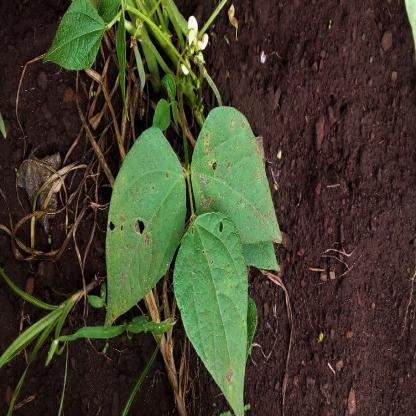Beans_Angular_LeafSpot: (100, 130, 192, 327), (173, 212, 264, 407), (195, 102, 276, 252)
